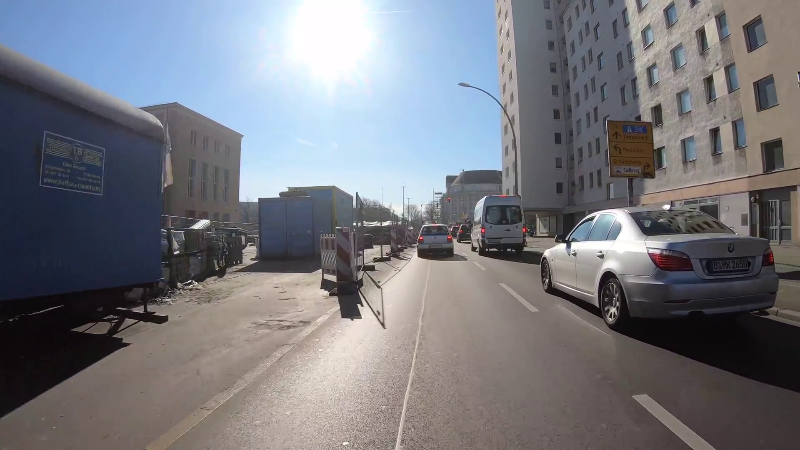Plate: (705, 257, 752, 274), (485, 236, 505, 244)
